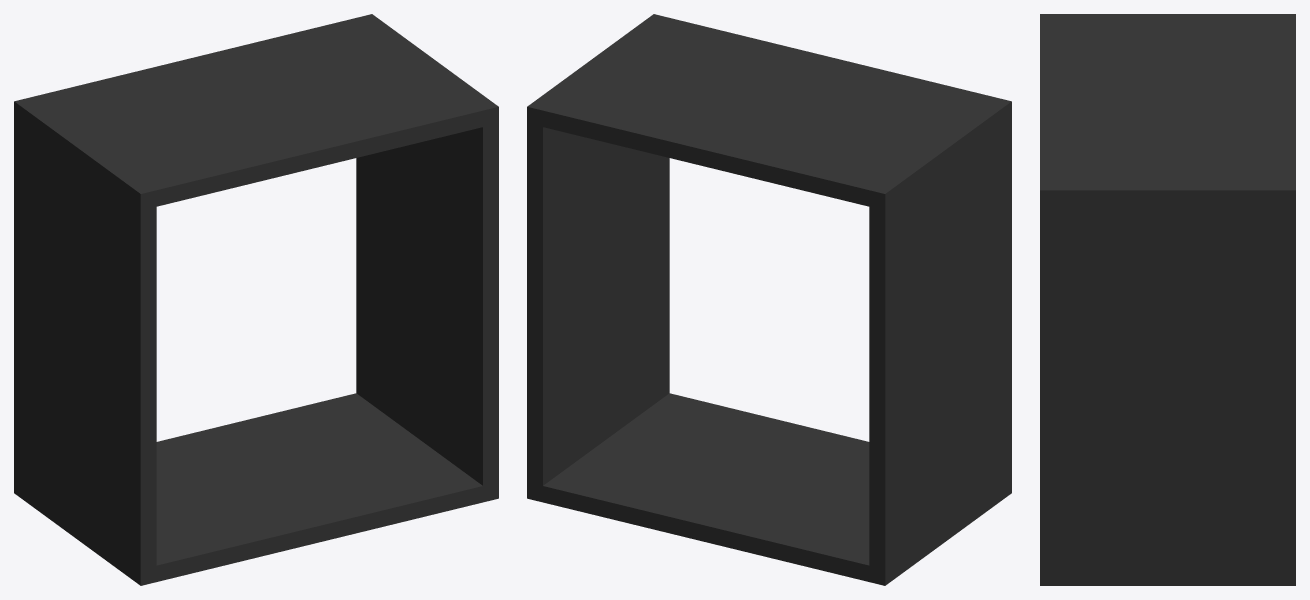
The model's file is WallShelf_Box.fbx.
The picture shows the model from 3 angles, left to right: view 1: azimuth 30°, elevation 25°; view 2: azimuth 150°, elevation 25°; view 3: azimuth 270°, elevation 25°; orthographic projection.
Visible parts, largest first — view 1: WallShelf_Box; view 2: WallShelf_Box; view 3: WallShelf_Box.
Part boxes in pixels (x1=…): WallShelf_Box: x1=14, y1=14, x2=498, y2=585; WallShelf_Box: x1=527, y1=14, x2=1011, y2=585; WallShelf_Box: x1=1040, y1=14, x2=1295, y2=585.
Bounding box in the file's own units: 71.93 × 75.24 × 44.08.
